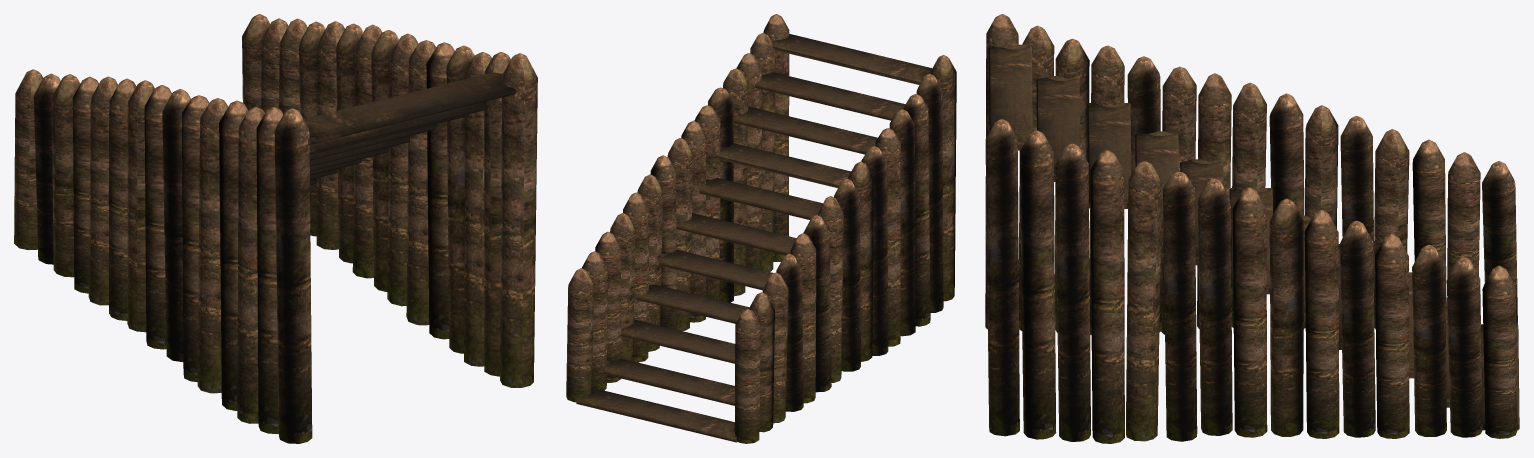
The model's file is Stair (short) v2.FBX.
3 views of the same model, side by side, from view 1: azimuth 30°, elevation 25°; view 2: azimuth 150°, elevation 25°; view 3: azimuth 270°, elevation 25° (orthographic). The views are drawn at different scales.
Parts seen in each view (by area): view 1: Stair (short); view 2: Stair (short); view 3: Stair (short).
Boxes of the visible parts, x1,y1,x2,y2 form: Stair (short): [14, 14, 537, 443]; Stair (short): [566, 14, 956, 443]; Stair (short): [985, 14, 1519, 443].
Bounding box in the file's own units: 92.76 × 113 × 172.
